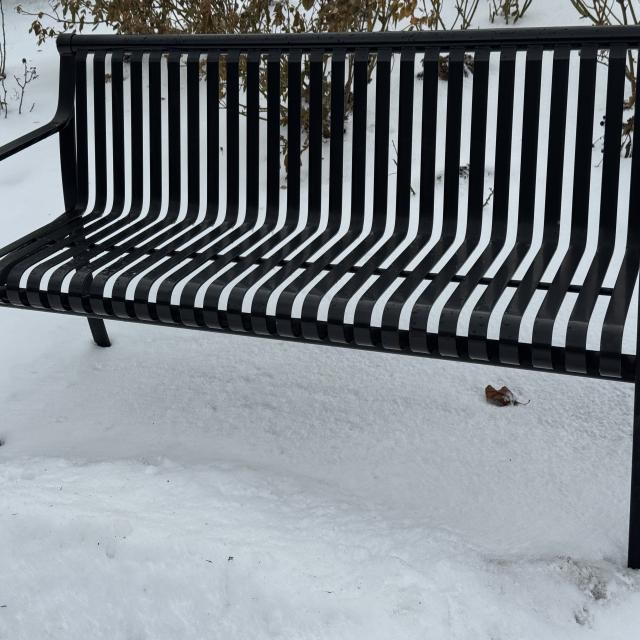Bench: (2, 22, 640, 567)
